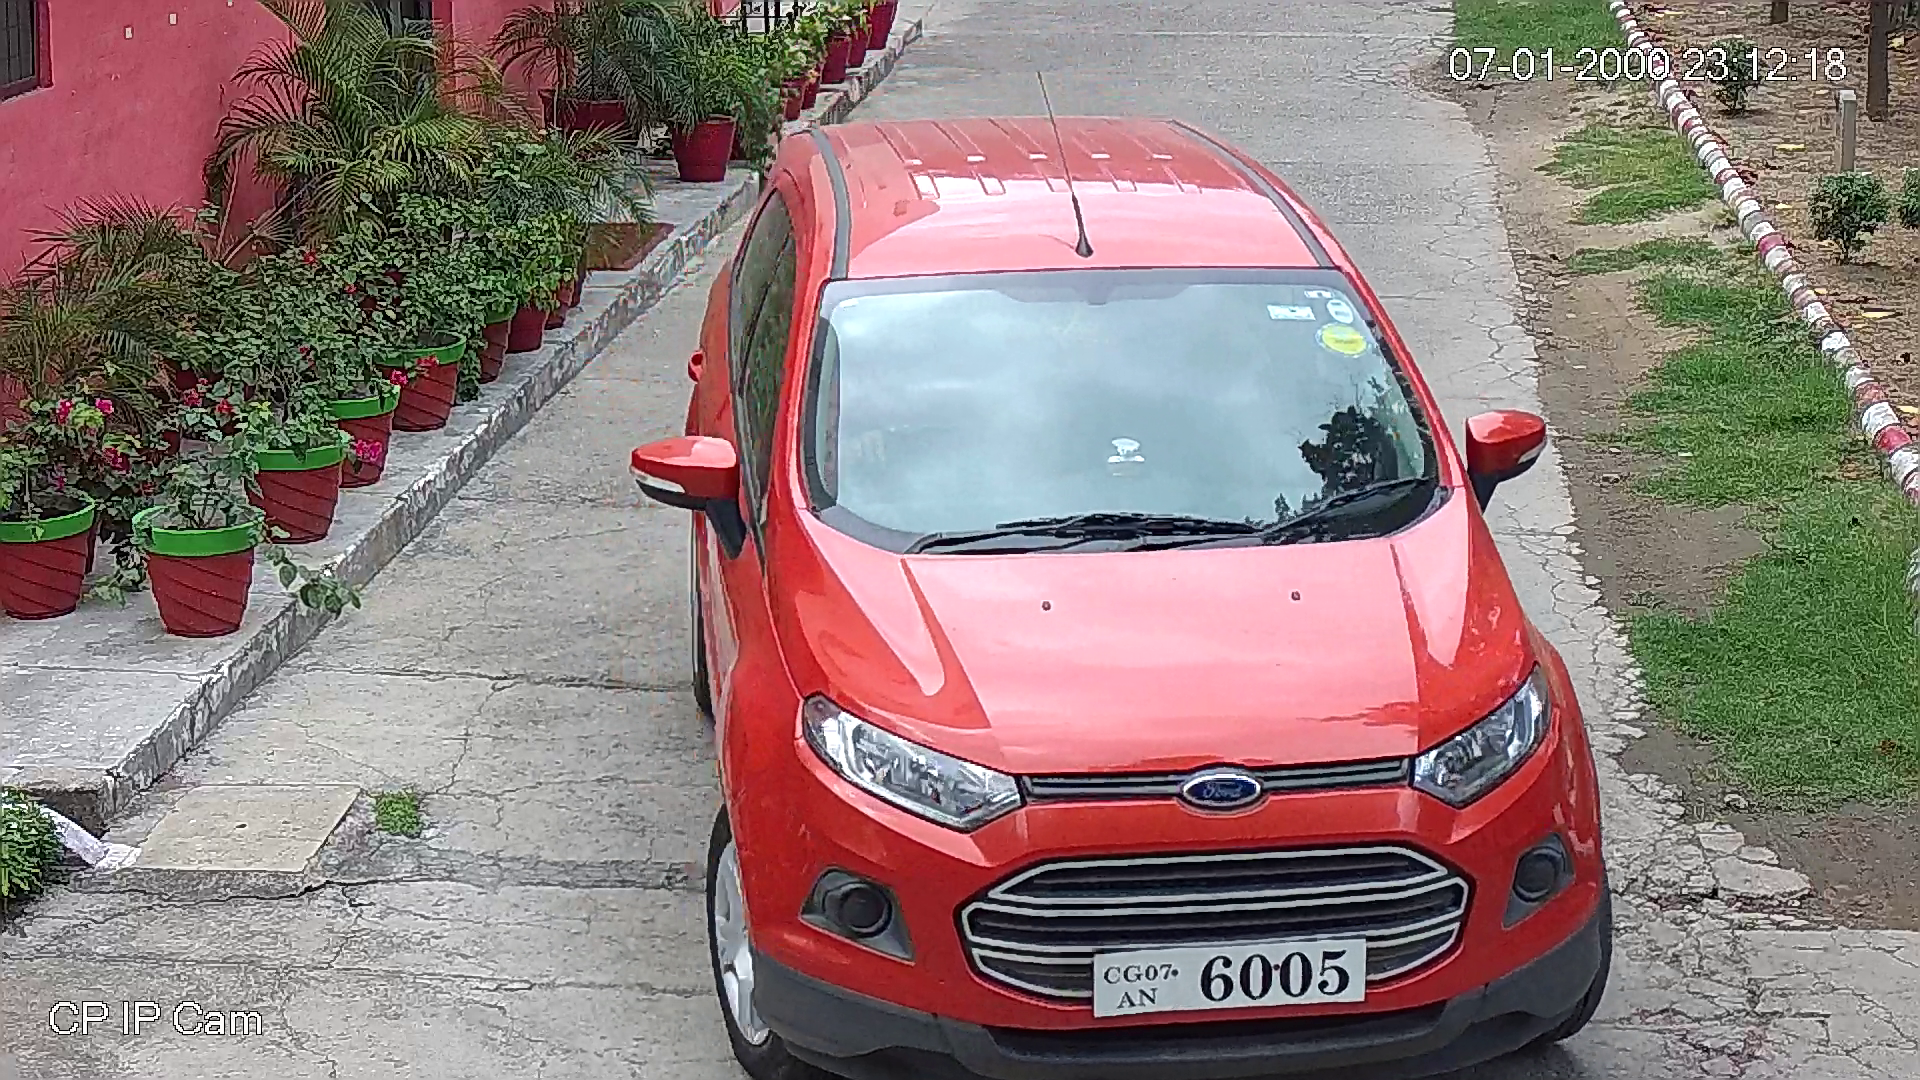plate: (1096, 941, 1364, 1022)
